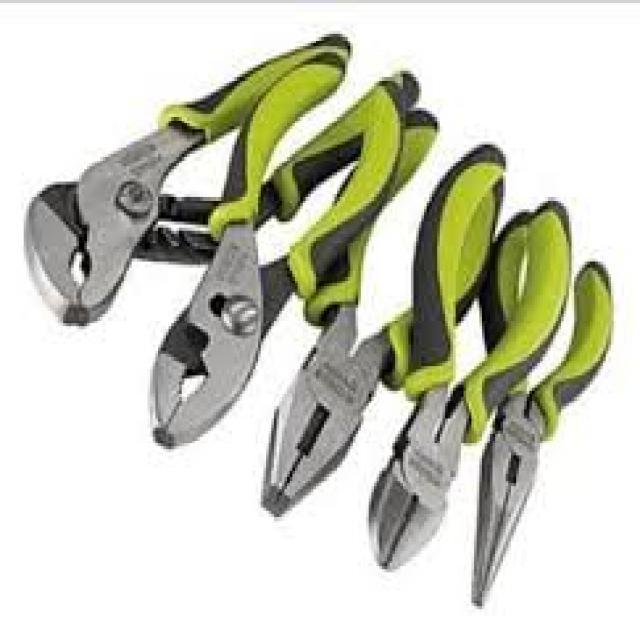pliers: (140, 64, 396, 458), (5, 35, 332, 329), (241, 150, 478, 528), (353, 159, 563, 572), (459, 210, 634, 612)
